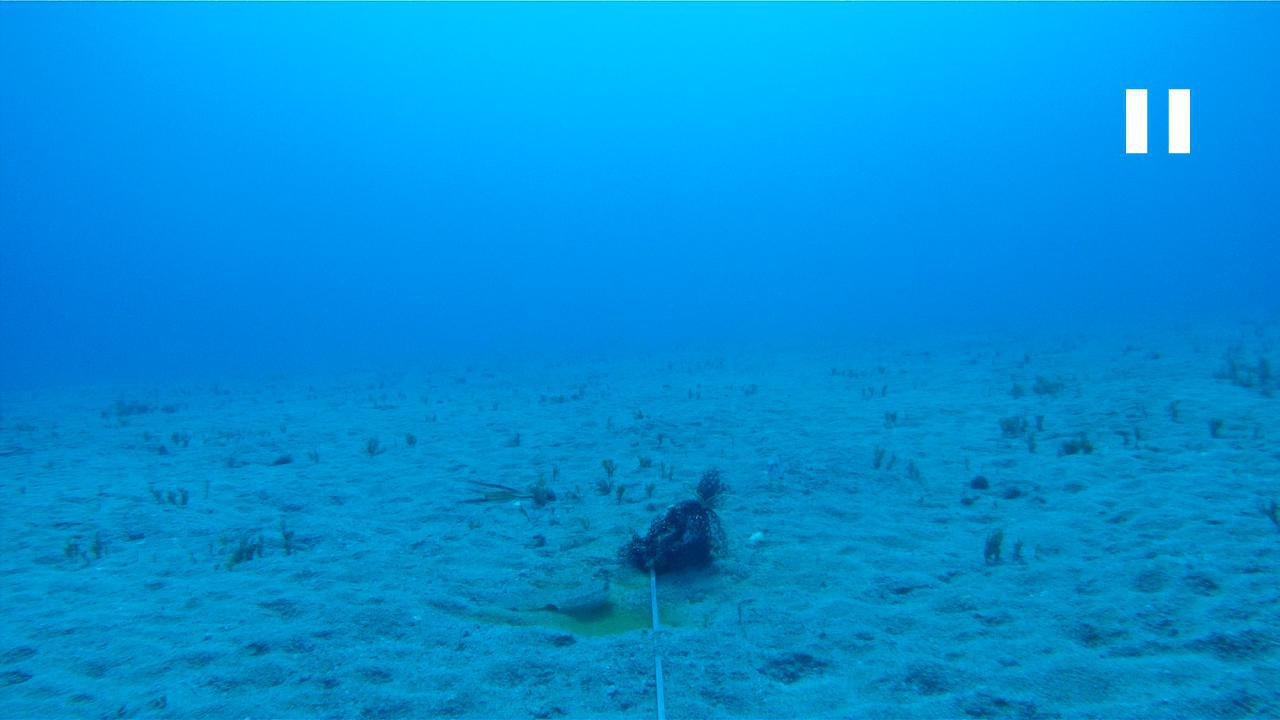bothus: (492, 575, 618, 612)
